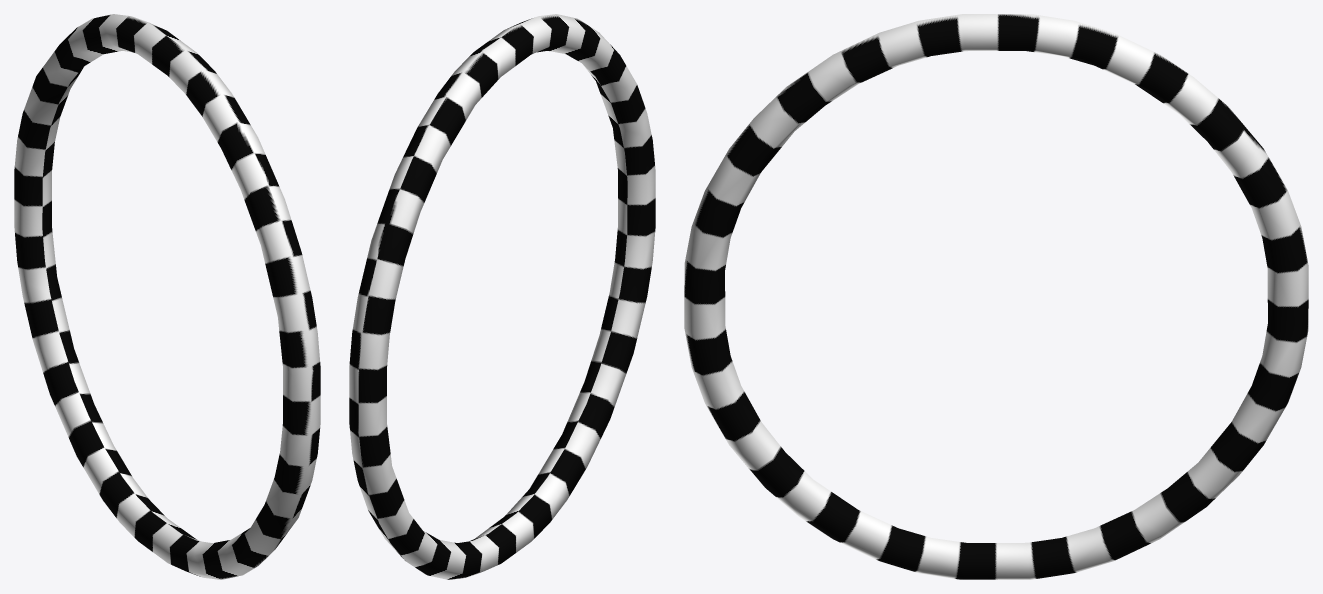
Rendered from final-ring.fbx.
3 views of the same model, side by side, from view 1: azimuth 30°, elevation 25°; view 2: azimuth 150°, elevation 25°; view 3: azimuth 270°, elevation 25° (orthographic). The views are drawn at different scales.
Parts seen in each view (by area): view 1: NurbsCircle; view 2: NurbsCircle; view 3: NurbsCircle.
Part boxes in pixels (x1,y1,x2,y2): NurbsCircle: (14,14,320,579); NurbsCircle: (349,14,655,579); NurbsCircle: (684,14,1308,579).
Bounding box in the file's own units: 513 × 9034 × 9034.
Materials: 1 (1 with a texture image).
